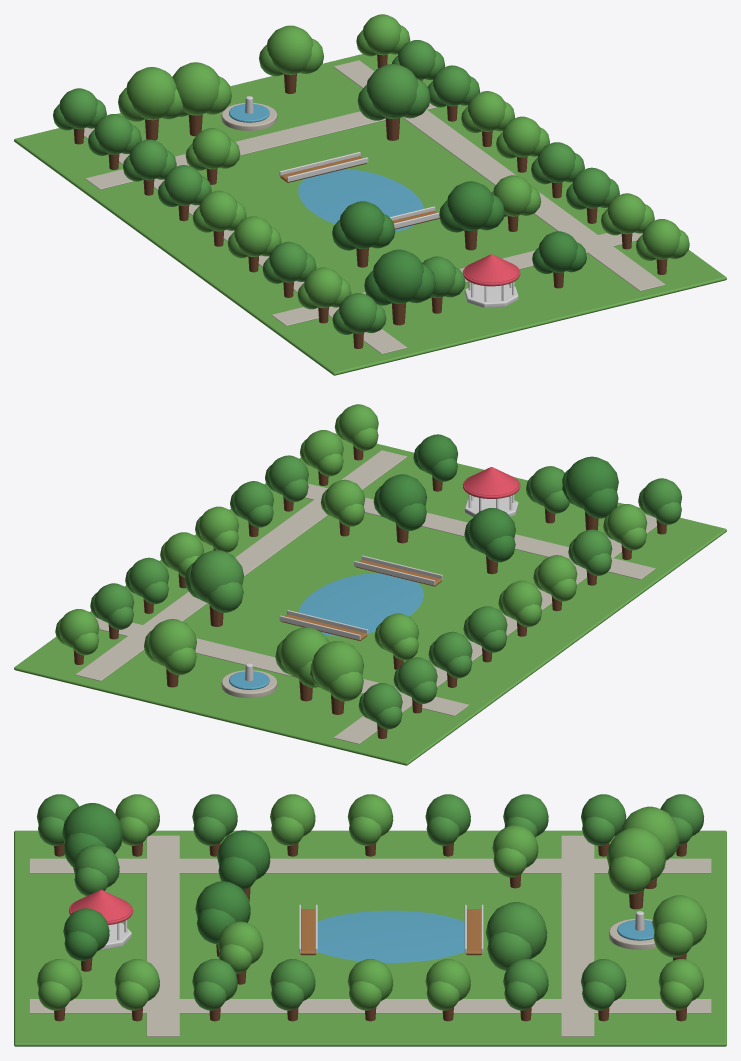
The model's file is centre.glb.
3 views of the same model, one above another, from view 1: azimuth 30°, elevation 25°; view 2: azimuth 150°, elevation 25°; view 3: azimuth 270°, elevation 25° (orthographic). The views are drawn at different scales.
Visible parts, largest first — view 1: Cube; view 2: Cube; view 3: Cube.
Part boxes in pixels (x1,y1,x2,y2): Cube: [14, 14, 726, 375]; Cube: [14, 404, 726, 765]; Cube: [14, 794, 726, 1046].
Size of the model in its own units: 4.88 by 0.943 by 6.88.
